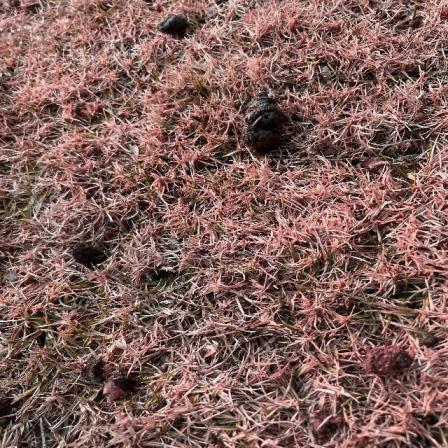dog-poop: (240, 81, 291, 152)
